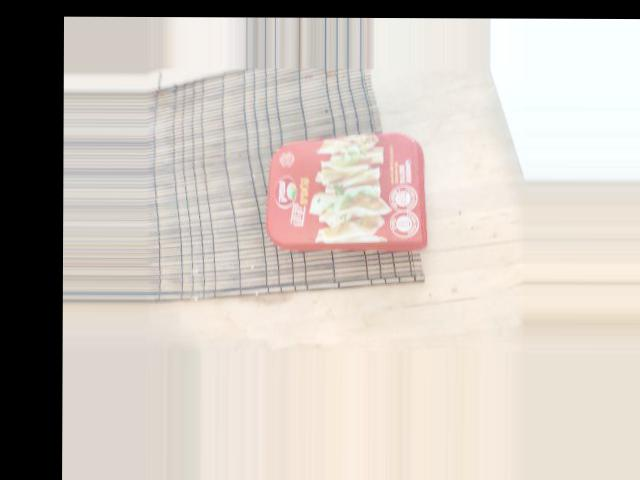cheese: (210, 52, 340, 234)
